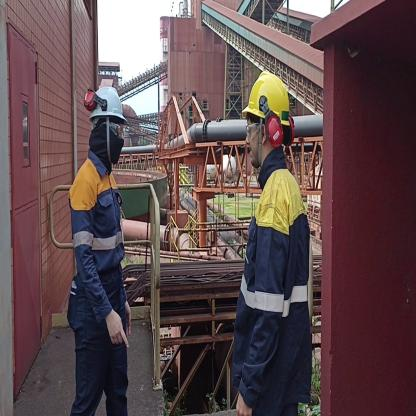Balaclava: (95, 116, 123, 170)
C_eletrica: (220, 170, 315, 416)
Capacete: (246, 70, 292, 122), (88, 83, 127, 120)
Operacional: (69, 161, 131, 325)
